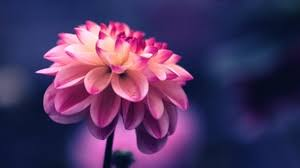flower: (29, 17, 198, 152)
